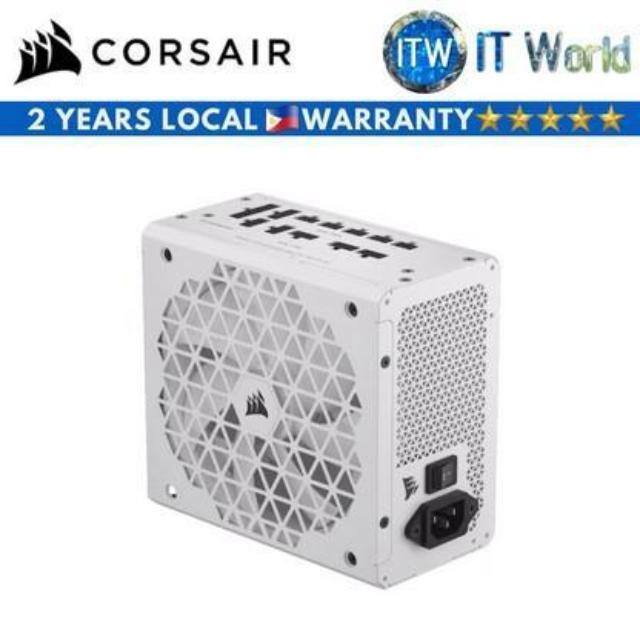PSU: (132, 186, 514, 603)
